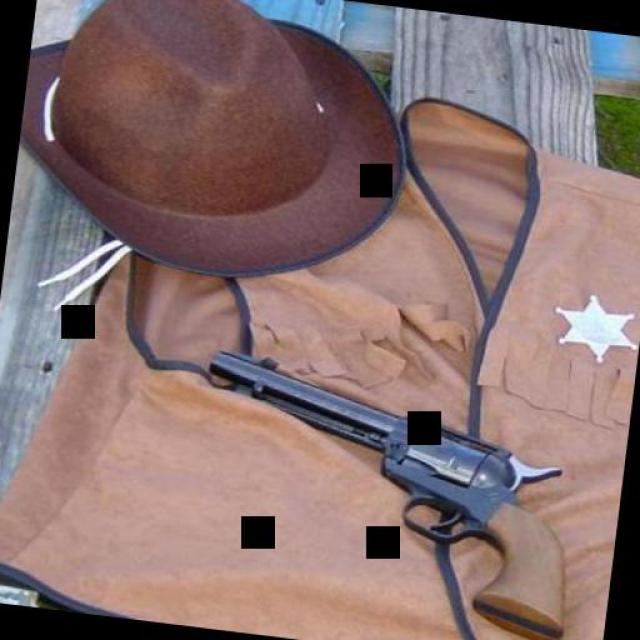gun: (179, 342, 596, 640)
